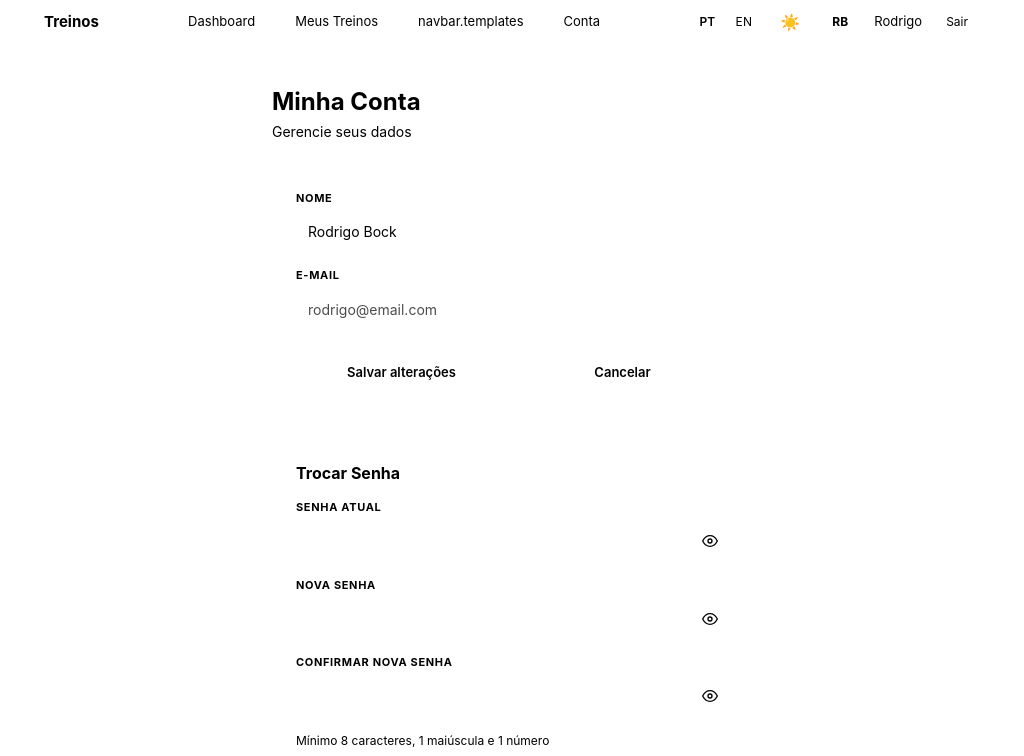
Scenario: Trocar senha: erro quando nova senha e confirmação não são iguais
The image size is (1024, 756).
Step 1. Type "OldPass1" into the password field below "Senha Atual" → [512, 542], box x1=296 y1=522 x2=728 y2=561
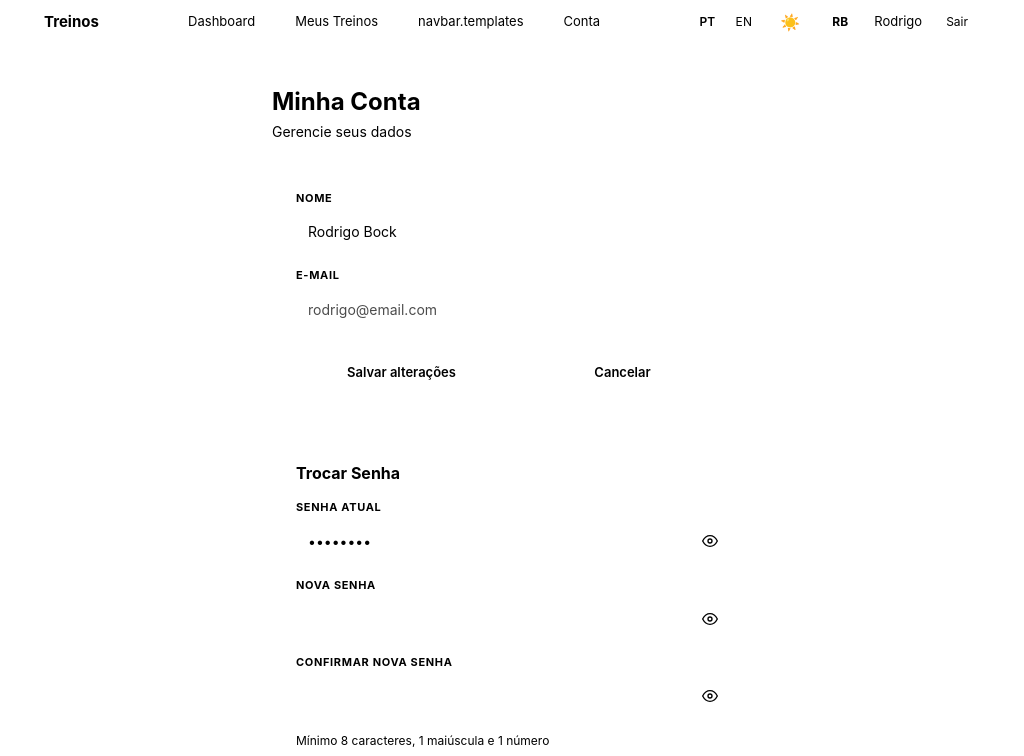
Step 2. Type "NewPass123" into the 2nd password field → [512, 619], box x1=296 y1=600 x2=728 y2=638
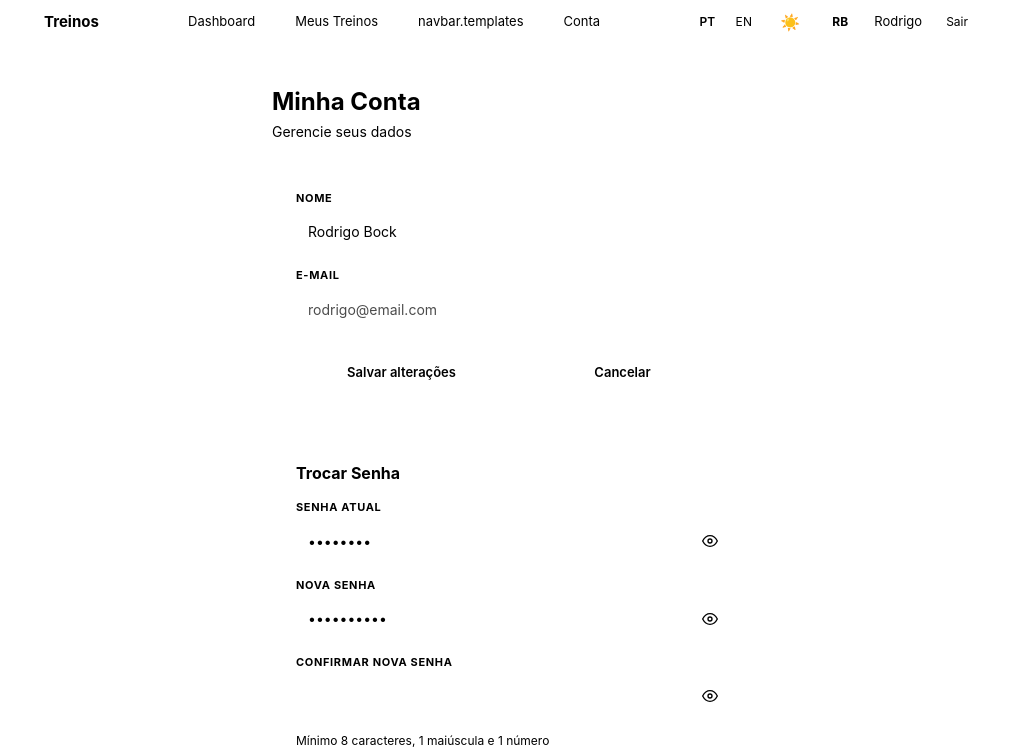
Step 3. Type "Different1" into the password field below "Confirmar Nova Senha" → [512, 696], box x1=296 y1=677 x2=728 y2=716
(page scrolled)
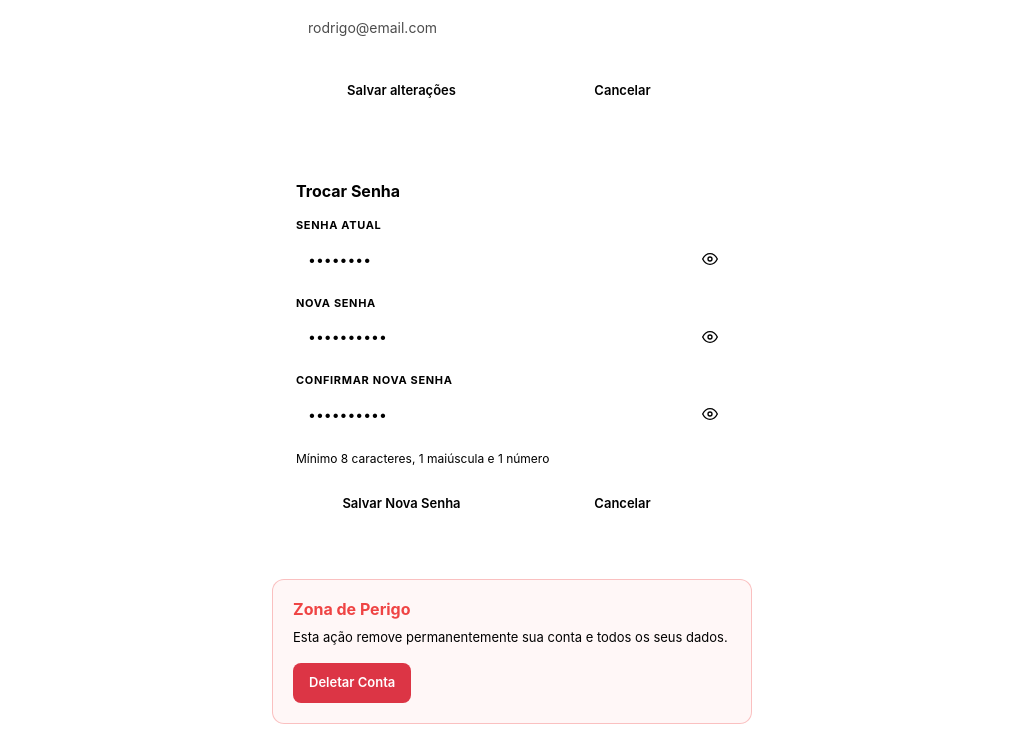
Step 4. Click the button "Salvar Nova Senha" → [402, 504], box x1=296 y1=484 x2=507 y2=524
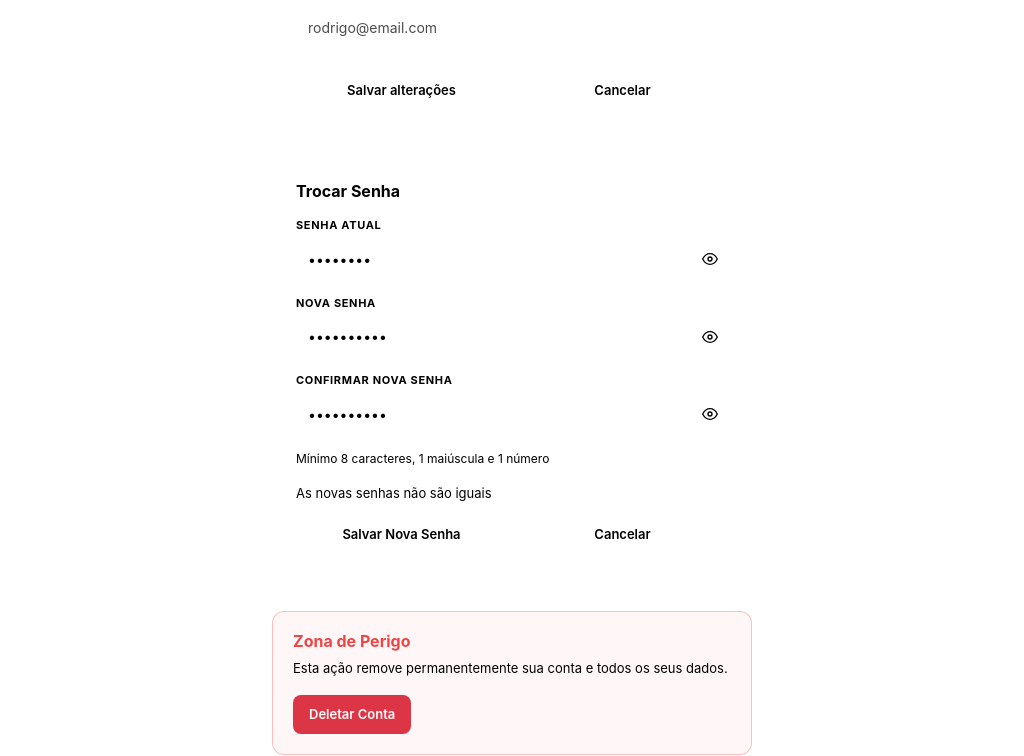
Expected: the text "As novas senhas não são iguais" is shown, x1=296 y1=485 x2=492 y2=501
